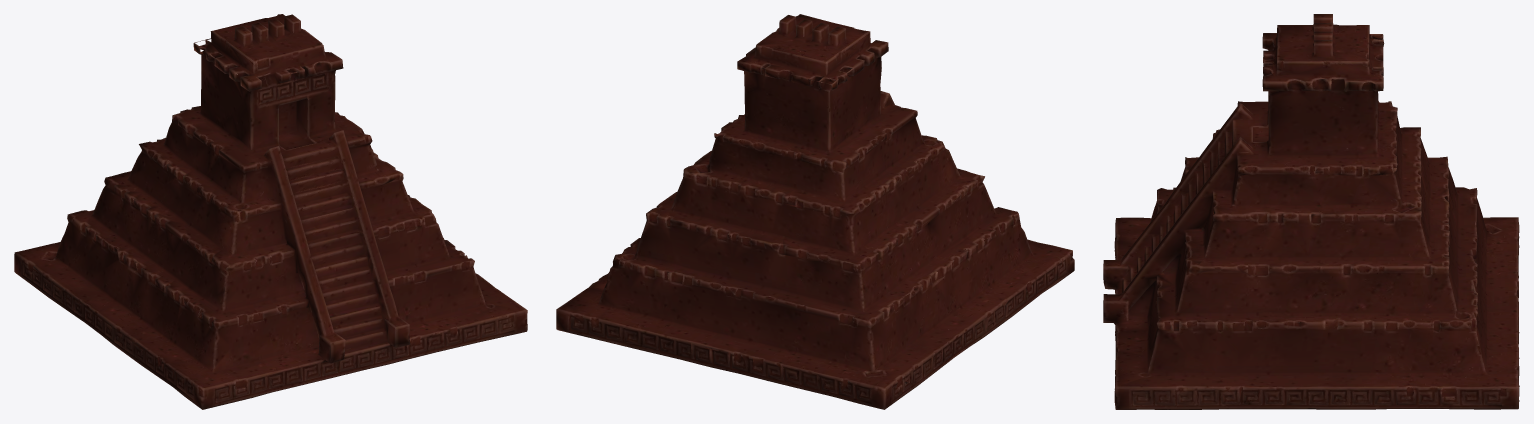
The model's file is shrine-tezontle.glb.
3 renders of one model, left to right at view 1: azimuth 30°, elevation 25°; view 2: azimuth 150°, elevation 25°; view 3: azimuth 270°, elevation 25°, orthographic. The views are drawn at different scales.
Parts seen in each view (by area): view 1: shrine; view 2: shrine; view 3: shrine.
Part boxes in pixels (x1,y1,x2,y2): shrine: [14, 14, 527, 409]; shrine: [556, 14, 1074, 409]; shrine: [1103, 14, 1519, 409].
Bounding box in the file's own units: 1.01 × 0.8114 × 1.03.
Materials: 1 (1 with a texture image).
